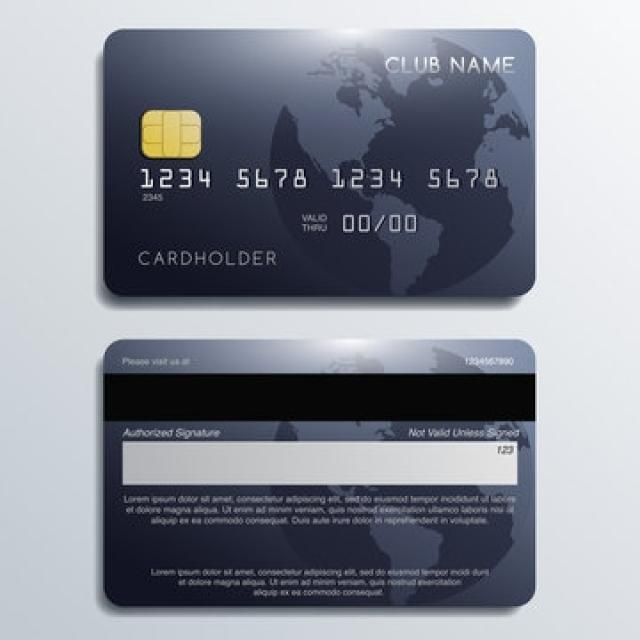payment_card: (101, 26, 537, 298), (101, 337, 537, 608)
